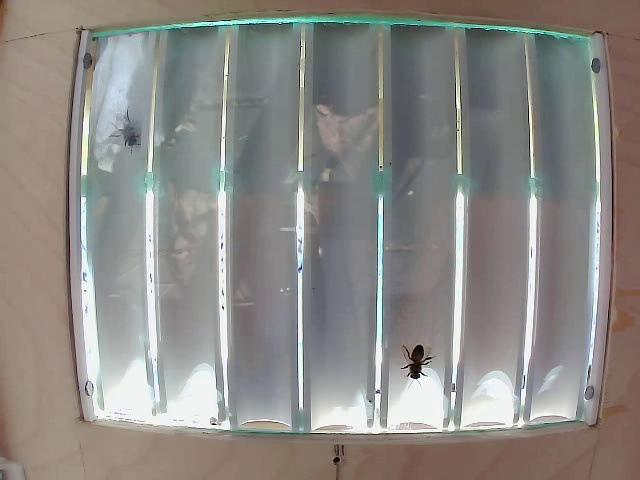bee: (110, 107, 147, 164), (393, 345, 443, 382)
